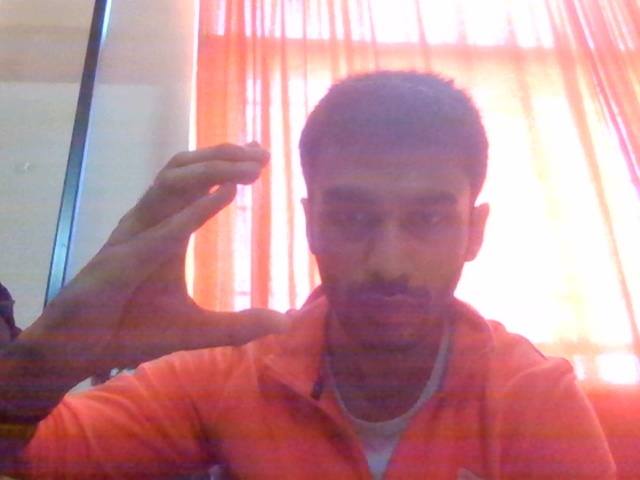C: (46, 122, 300, 397)
